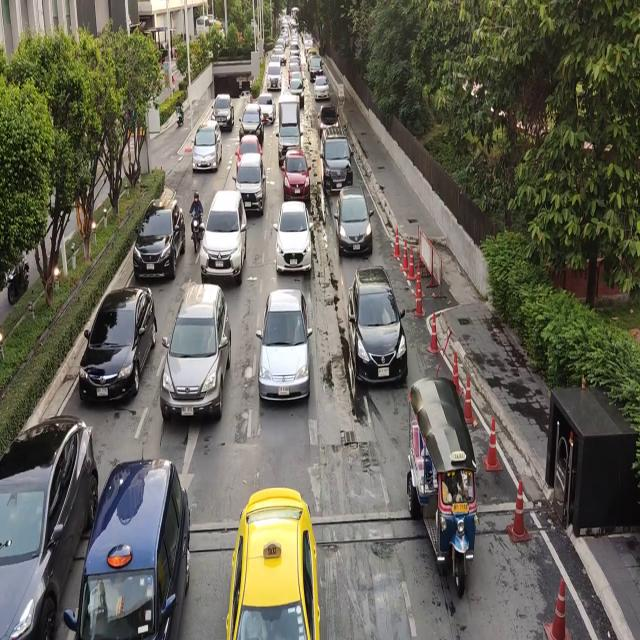bike: (188, 190, 204, 252), (175, 97, 184, 126)
car: (0, 413, 93, 640), (83, 459, 192, 640), (230, 489, 321, 640), (161, 288, 233, 410), (255, 285, 311, 397), (352, 274, 406, 386), (202, 190, 250, 280), (133, 202, 184, 281), (276, 202, 313, 270), (336, 190, 372, 256), (231, 162, 268, 214), (322, 136, 352, 187), (191, 123, 222, 169), (282, 152, 312, 195), (213, 92, 234, 131), (240, 105, 262, 136), (317, 106, 339, 130), (257, 94, 276, 121), (265, 60, 282, 90), (312, 77, 329, 101), (288, 79, 304, 100)
truck: (278, 94, 301, 162)
